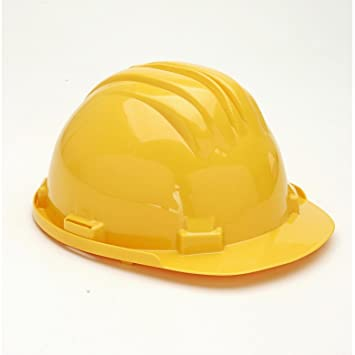casco: (30, 59, 336, 279)
